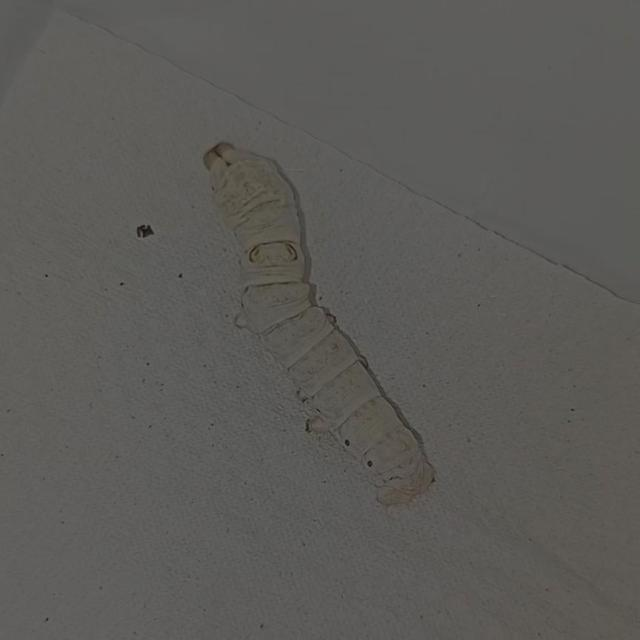Healthy: (175, 106, 469, 518)
